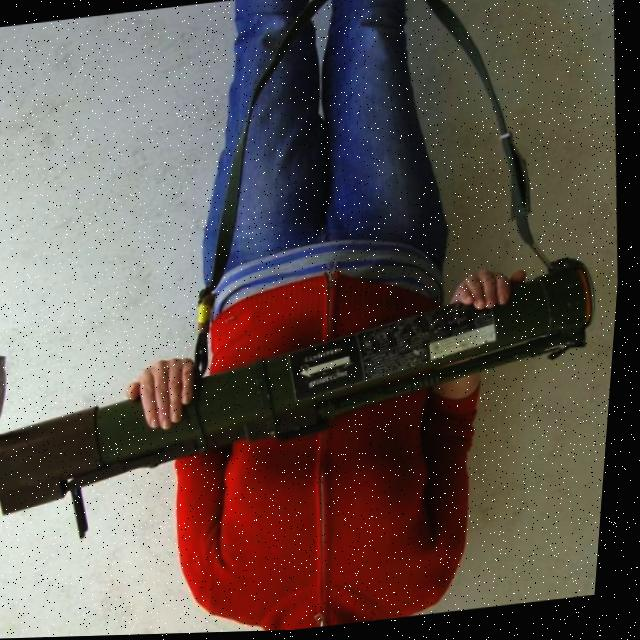rocket: (0, 214, 627, 547)
